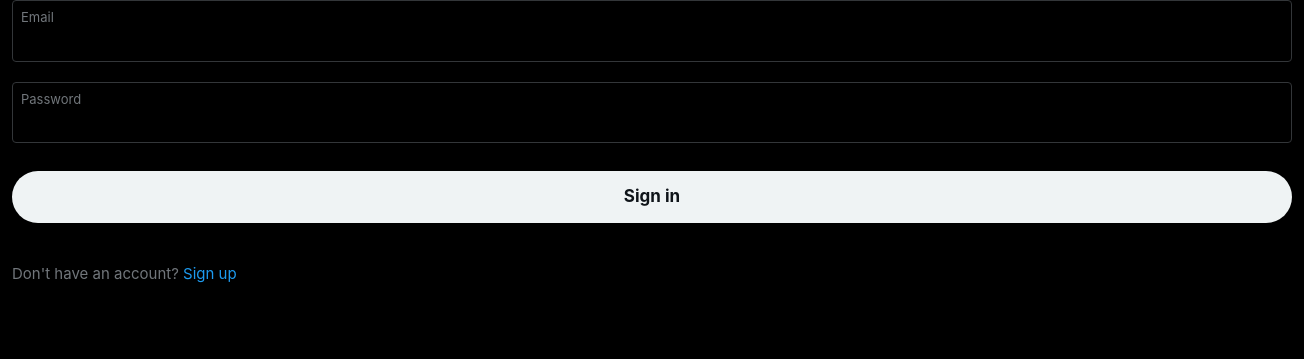
Test: LoginForm › shows form-level errors as an alert
Click the button "Sign in". click: [652, 197]
box: [12,171,1292,223]
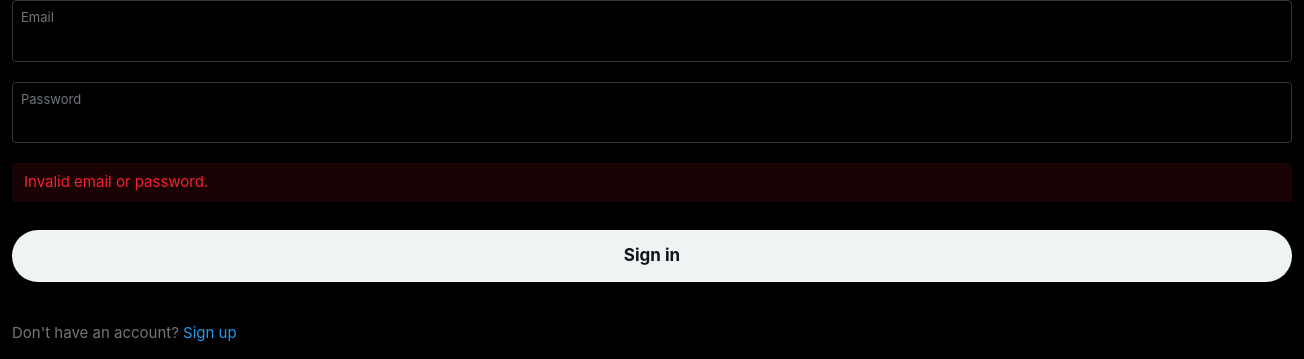
Check: the message reads "Invalid email or password.", box [24,172,208,191]
